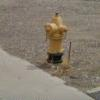Hydrant: (38, 6, 70, 66)
